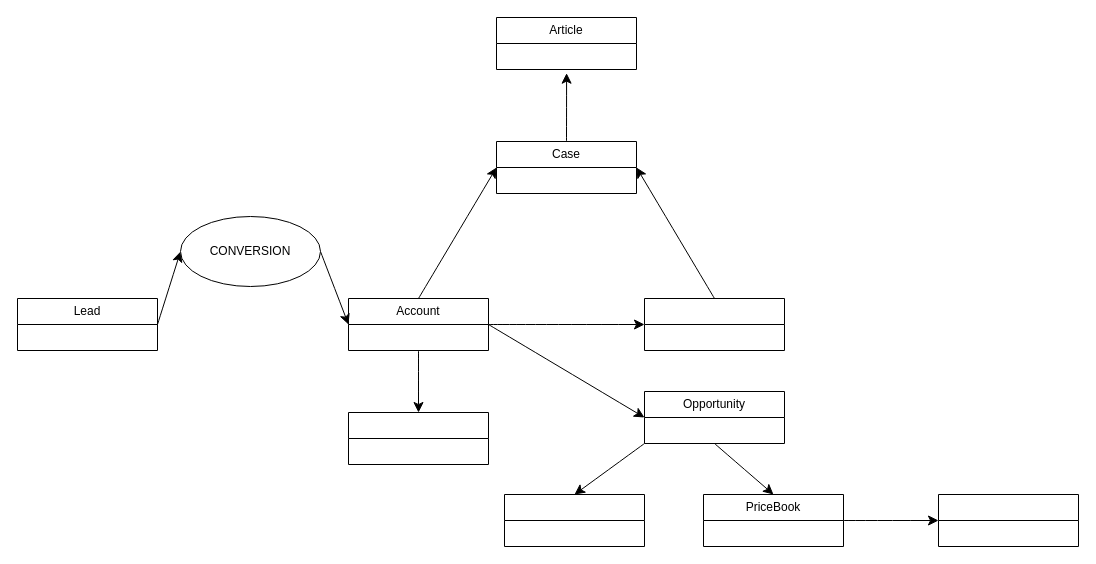
Image size: 1096x564. Some labels were removed from this diagram. Here are the shapes that lost their labels. From the top down, the box of each, then its label:
(644, 298, 784, 350): Contact
(348, 412, 488, 464): Asset
(504, 494, 644, 546): Quote
(938, 494, 1078, 546): Product
